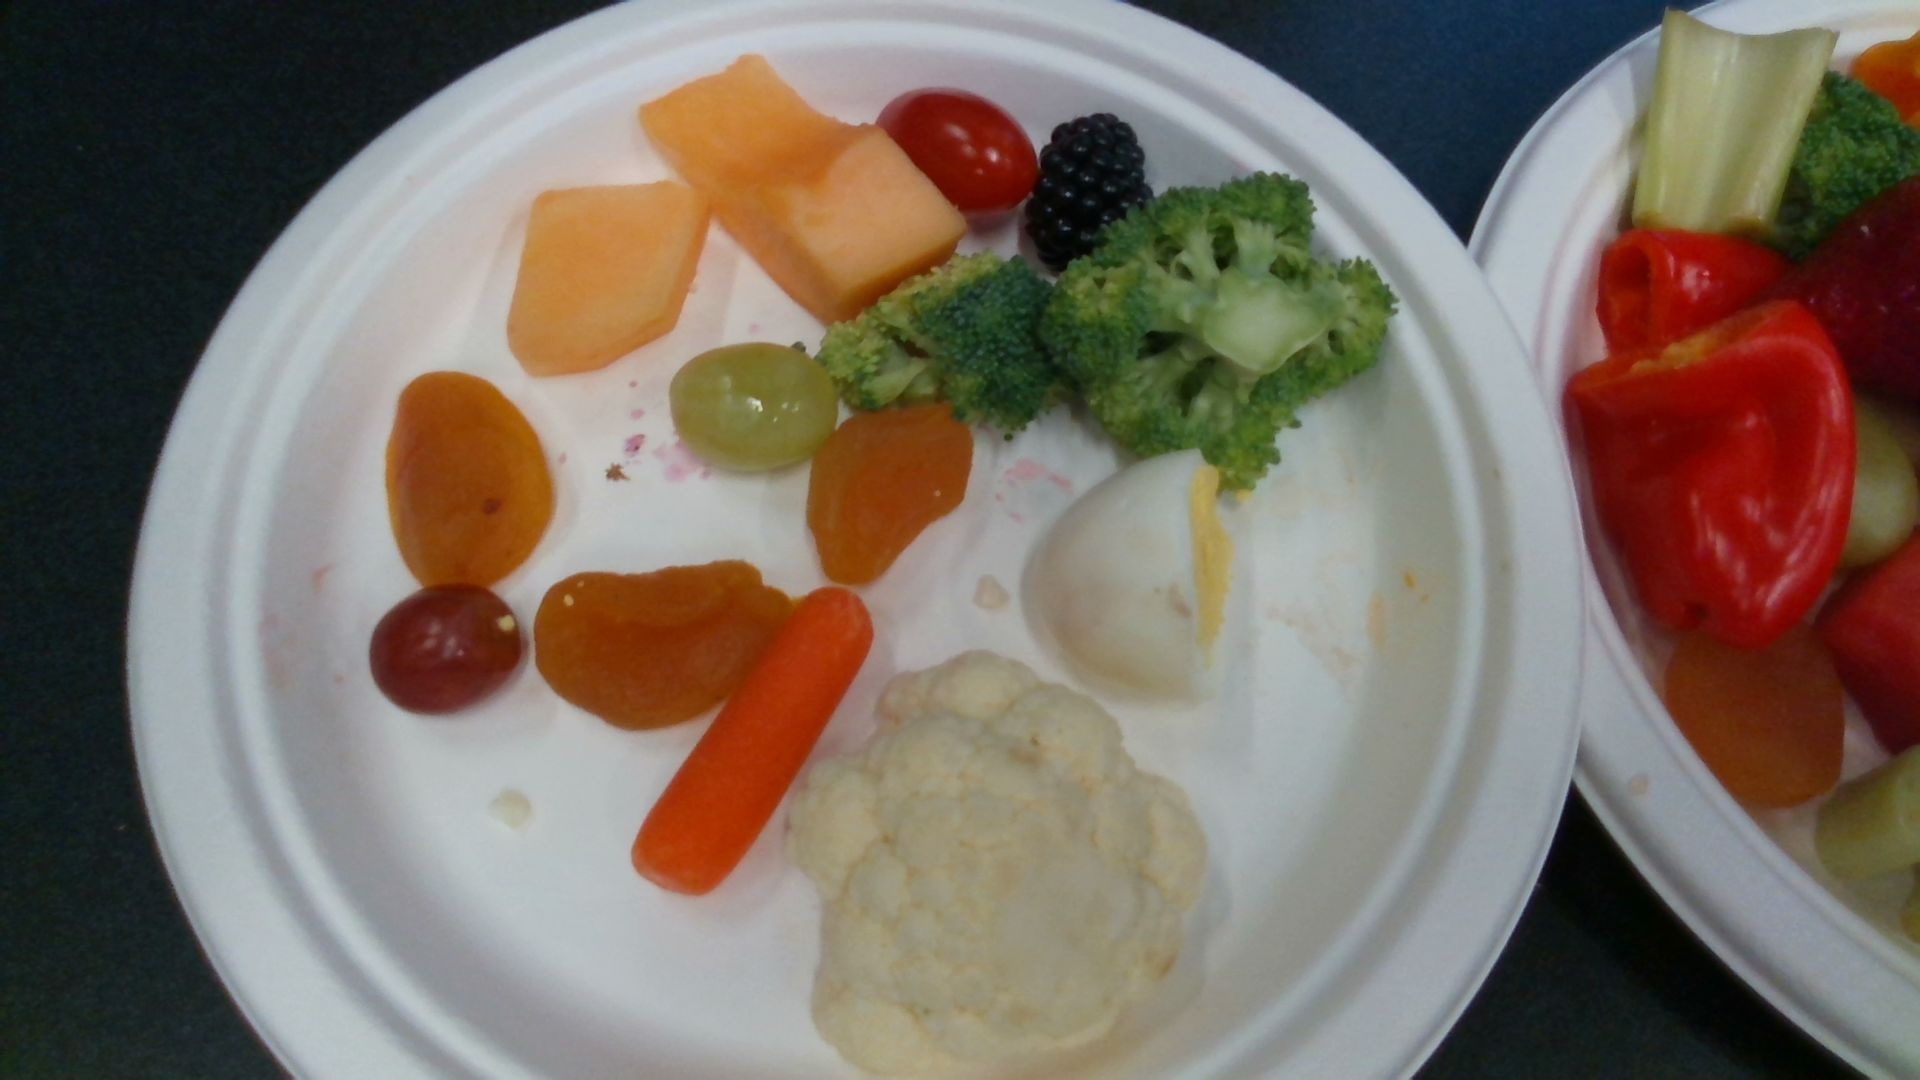apricot: (534, 566, 785, 727), (390, 375, 554, 582), (1664, 636, 1840, 800), (808, 406, 967, 580)
bell_pepper: (1565, 298, 1857, 647)
blackberry: (1030, 117, 1155, 260)
broccoli: (1042, 170, 1395, 485), (829, 251, 1054, 431)
cantalope: (640, 55, 965, 316), (509, 185, 712, 371)
carrot: (630, 591, 870, 898)
cauliflower: (790, 658, 1207, 1077)
celery: (1634, 13, 1840, 223)
cherry_tomato: (882, 94, 1036, 222)
egg: (1050, 448, 1224, 684)
grape_green: (670, 343, 835, 465)
grape_purple: (371, 585, 522, 715)
